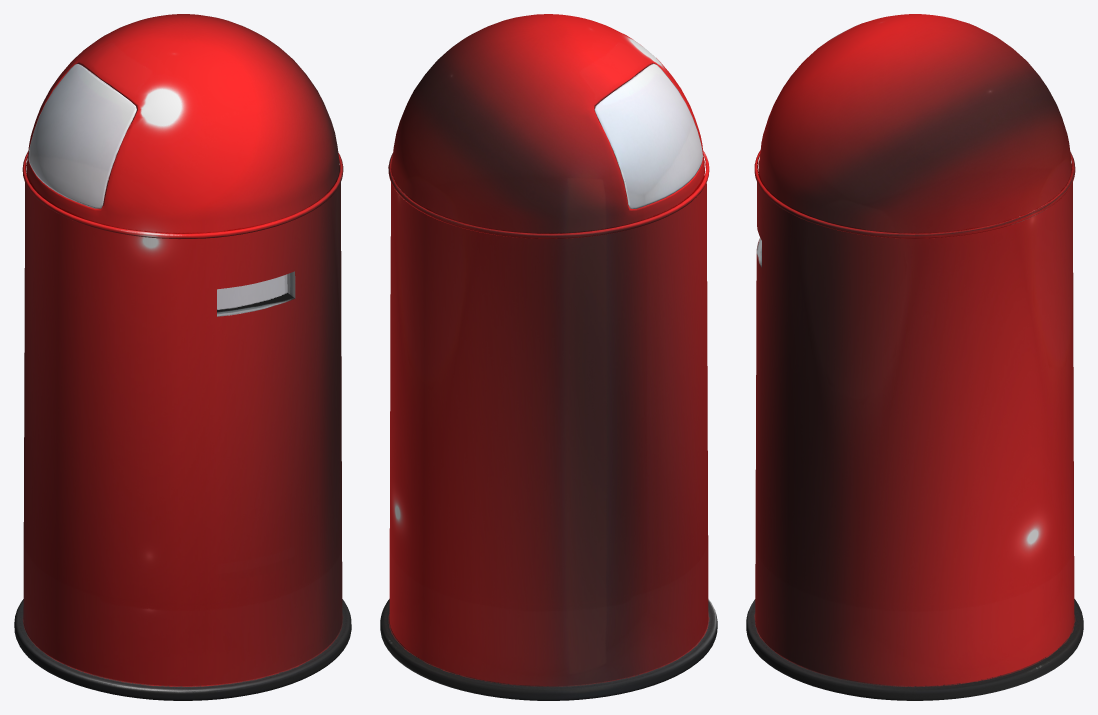
File: pushboy.glb
3 renders of one model, left to right at view 1: azimuth 30°, elevation 25°; view 2: azimuth 150°, elevation 25°; view 3: azimuth 270°, elevation 25°, orthographic.
Visible parts, largest first — view 1: pushboy_red; view 2: pushboy_red; view 3: pushboy_red.
Part boxes in pixels (x1,y1,x2,y2): pushboy_red: (14,14,351,700); pushboy_red: (380,14,717,700); pushboy_red: (746,14,1083,700).
Size of the model in its own units: 0.3697 by 0.727 by 0.3701.
1 material, 1 textured.
